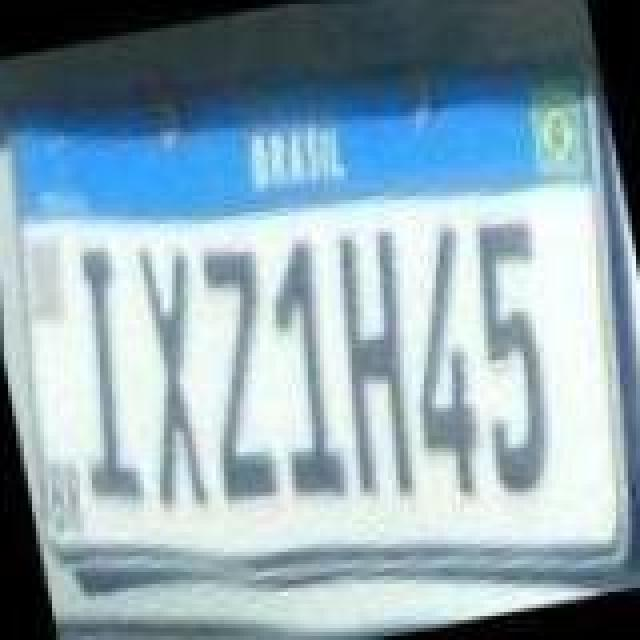1: (244, 230, 360, 498)
4: (380, 210, 504, 502)
5: (448, 208, 580, 500)
H: (312, 218, 444, 498)
I: (42, 240, 154, 512)
X: (108, 230, 232, 510)
Z: (176, 236, 300, 504)
